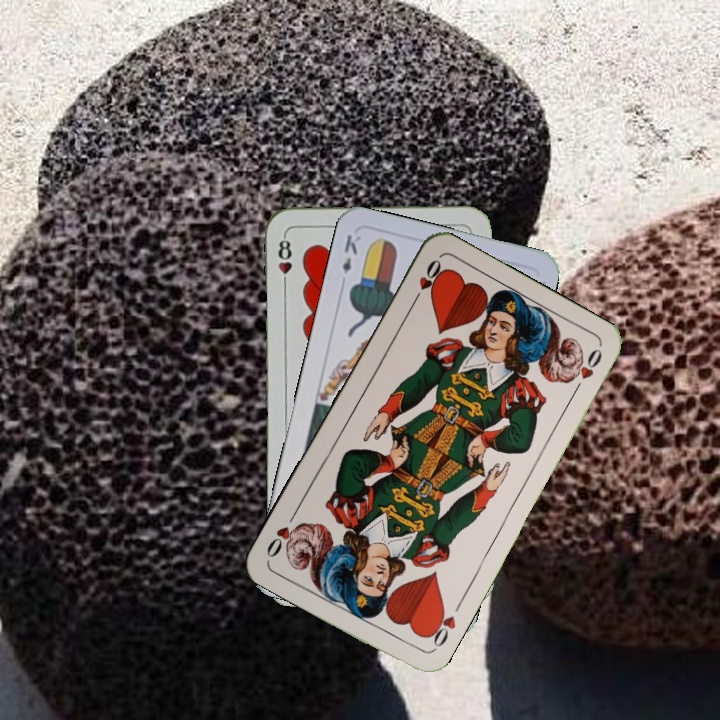EK: (338, 230, 363, 276)
H8: (273, 231, 294, 290)
HO: (407, 255, 445, 309), (422, 602, 459, 654)
